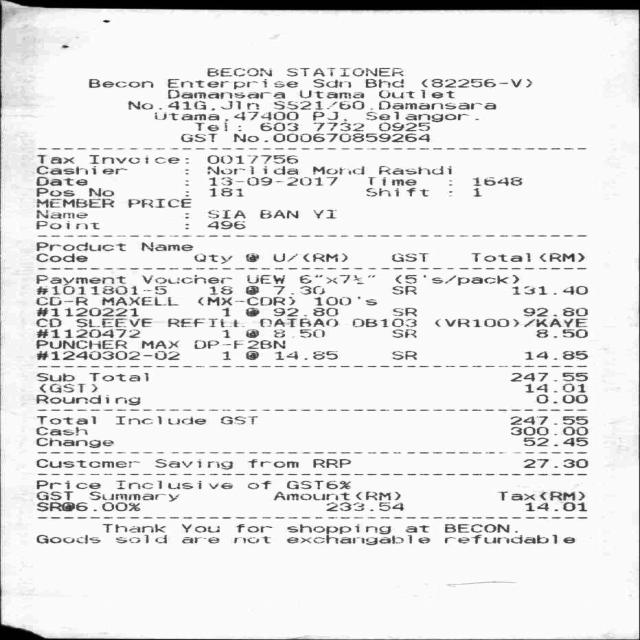text: (286, 534, 429, 546), (272, 132, 429, 142), (36, 188, 114, 208), (434, 318, 586, 328), (393, 274, 518, 286), (166, 78, 297, 89), (128, 100, 258, 111), (154, 112, 297, 122), (35, 350, 178, 360), (443, 534, 573, 544), (166, 89, 284, 99), (36, 286, 166, 295), (286, 67, 402, 77), (208, 177, 336, 186), (35, 394, 139, 405), (287, 524, 390, 535), (382, 100, 495, 110), (420, 78, 531, 88), (36, 274, 124, 286), (116, 480, 232, 489), (366, 112, 468, 122), (36, 307, 138, 317), (87, 491, 178, 502), (273, 100, 372, 110), (196, 296, 294, 306), (87, 154, 181, 164), (36, 458, 130, 468), (35, 329, 139, 338), (206, 165, 297, 175), (222, 329, 323, 338), (36, 165, 126, 175), (35, 241, 125, 251), (115, 415, 205, 425), (142, 274, 231, 284), (498, 491, 584, 501), (154, 458, 231, 469), (269, 306, 339, 318), (36, 437, 112, 448), (206, 155, 297, 164), (194, 340, 284, 349), (35, 340, 125, 349), (258, 318, 337, 328), (298, 274, 374, 284), (101, 296, 177, 306), (378, 89, 453, 99), (76, 318, 151, 328), (511, 372, 586, 382), (511, 426, 586, 436), (273, 491, 348, 501), (443, 523, 516, 533), (378, 165, 450, 175), (324, 502, 403, 511), (272, 253, 346, 262), (512, 286, 586, 295), (206, 67, 271, 77), (88, 78, 152, 88), (298, 89, 362, 99), (522, 307, 586, 317), (522, 458, 586, 468), (35, 534, 99, 544), (128, 198, 191, 208), (167, 318, 237, 327), (524, 350, 586, 360), (274, 350, 336, 360), (102, 523, 164, 533), (524, 382, 584, 392), (36, 415, 95, 425), (352, 318, 416, 327), (522, 437, 586, 446), (36, 480, 100, 489), (286, 480, 350, 489), (39, 383, 96, 393), (365, 187, 427, 196), (524, 502, 586, 511), (533, 329, 588, 339), (470, 253, 529, 262), (89, 372, 147, 381), (36, 502, 88, 512), (377, 122, 428, 132), (272, 285, 323, 295), (535, 394, 586, 404), (34, 177, 90, 186), (312, 122, 362, 132), (36, 209, 86, 219), (36, 426, 86, 436), (116, 534, 166, 544), (36, 221, 98, 229), (140, 242, 192, 251), (246, 459, 298, 468), (194, 122, 240, 132), (36, 253, 86, 262), (36, 296, 86, 305), (355, 491, 399, 501), (368, 177, 416, 186), (472, 177, 520, 186), (193, 253, 231, 264), (311, 166, 363, 174), (539, 253, 584, 262), (364, 78, 402, 88), (260, 122, 298, 132), (35, 187, 73, 197), (246, 274, 284, 284), (36, 372, 74, 382), (312, 458, 350, 468), (312, 78, 349, 88), (208, 209, 245, 219), (36, 154, 72, 164), (235, 523, 270, 533), (208, 187, 242, 197), (35, 491, 72, 500), (312, 111, 345, 121), (180, 133, 216, 142), (141, 340, 177, 349), (232, 133, 267, 142), (392, 253, 427, 262), (552, 416, 587, 425), (510, 416, 545, 425), (312, 297, 351, 305), (105, 502, 139, 511), (260, 210, 298, 218), (207, 221, 244, 229), (182, 524, 218, 532), (182, 536, 218, 544), (221, 416, 256, 424), (233, 536, 268, 544), (35, 318, 60, 328), (392, 285, 416, 295), (392, 307, 416, 317), (392, 328, 416, 338), (392, 350, 416, 360), (313, 208, 335, 218), (210, 286, 232, 295), (405, 524, 427, 533), (246, 481, 270, 489), (245, 307, 258, 317), (244, 350, 257, 360), (244, 253, 257, 262), (244, 286, 257, 295), (365, 298, 376, 306), (472, 187, 480, 197), (220, 307, 228, 317), (222, 351, 229, 360)
